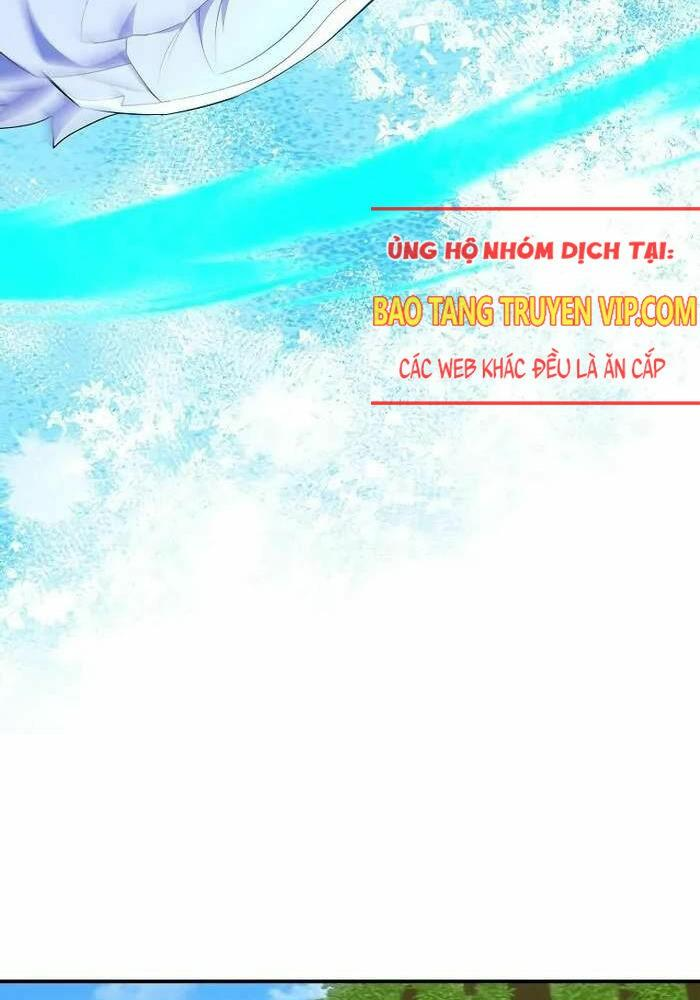quangcao: (371, 203, 700, 411)
